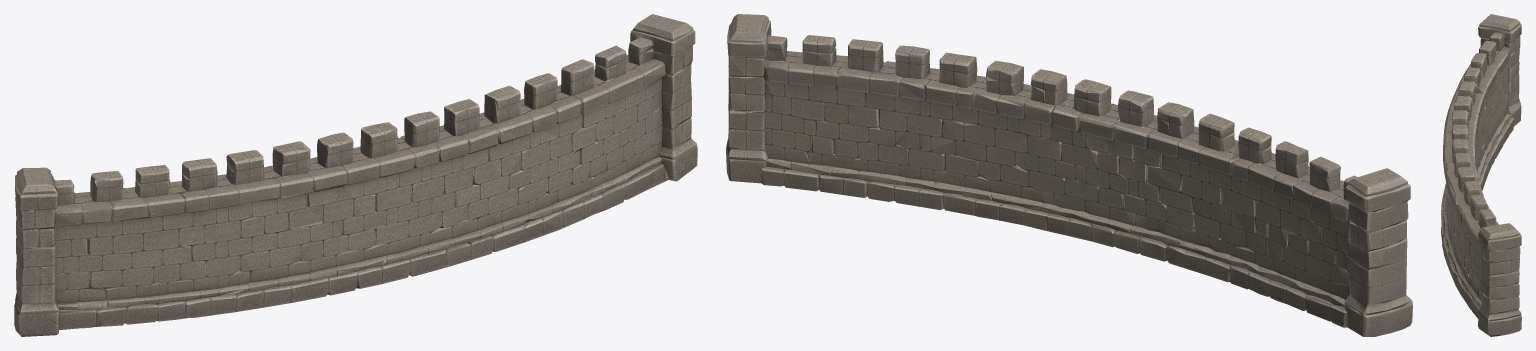
The model's file is inner_wall_segment.glb.
3 views of the same model, side by side, from view 1: azimuth 30°, elevation 25°; view 2: azimuth 150°, elevation 25°; view 3: azimuth 270°, elevation 25° (orthographic). The views are drawn at different scales.
Visible parts, largest first — view 1: output_unwrapped; view 2: output_unwrapped; view 3: output_unwrapped.
Boxes of the visible parts, <box> form: output_unwrapped: <box>14,14,697,336</box>; output_unwrapped: <box>726,14,1412,336</box>; output_unwrapped: <box>1441,14,1521,336</box>.
Size of the model in its own units: 1.9 by 0.4054 by 0.2867.
1 material, 1 textured.
